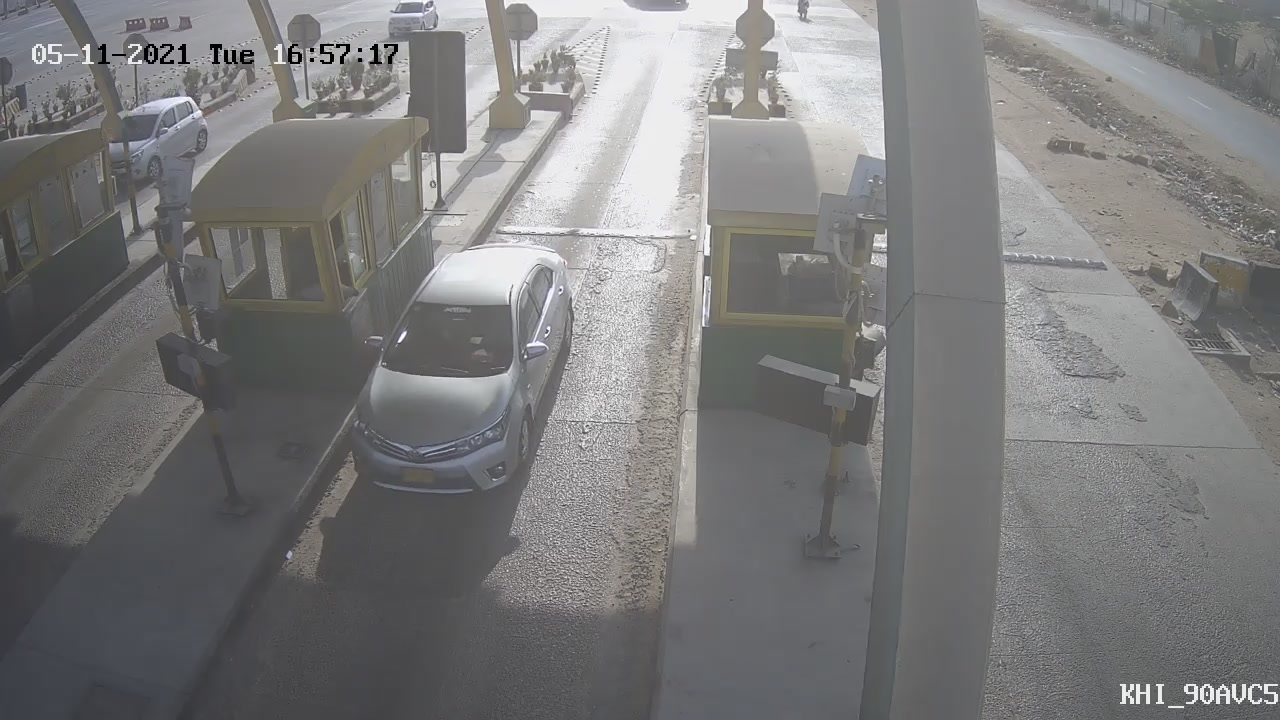F1: (326, 225, 598, 521)
